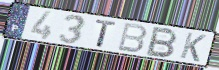3: (58, 14, 88, 45)
4: (29, 10, 54, 42)
B: (144, 26, 180, 59), (116, 22, 148, 54)
K: (178, 31, 208, 63)
T: (94, 18, 119, 49)
